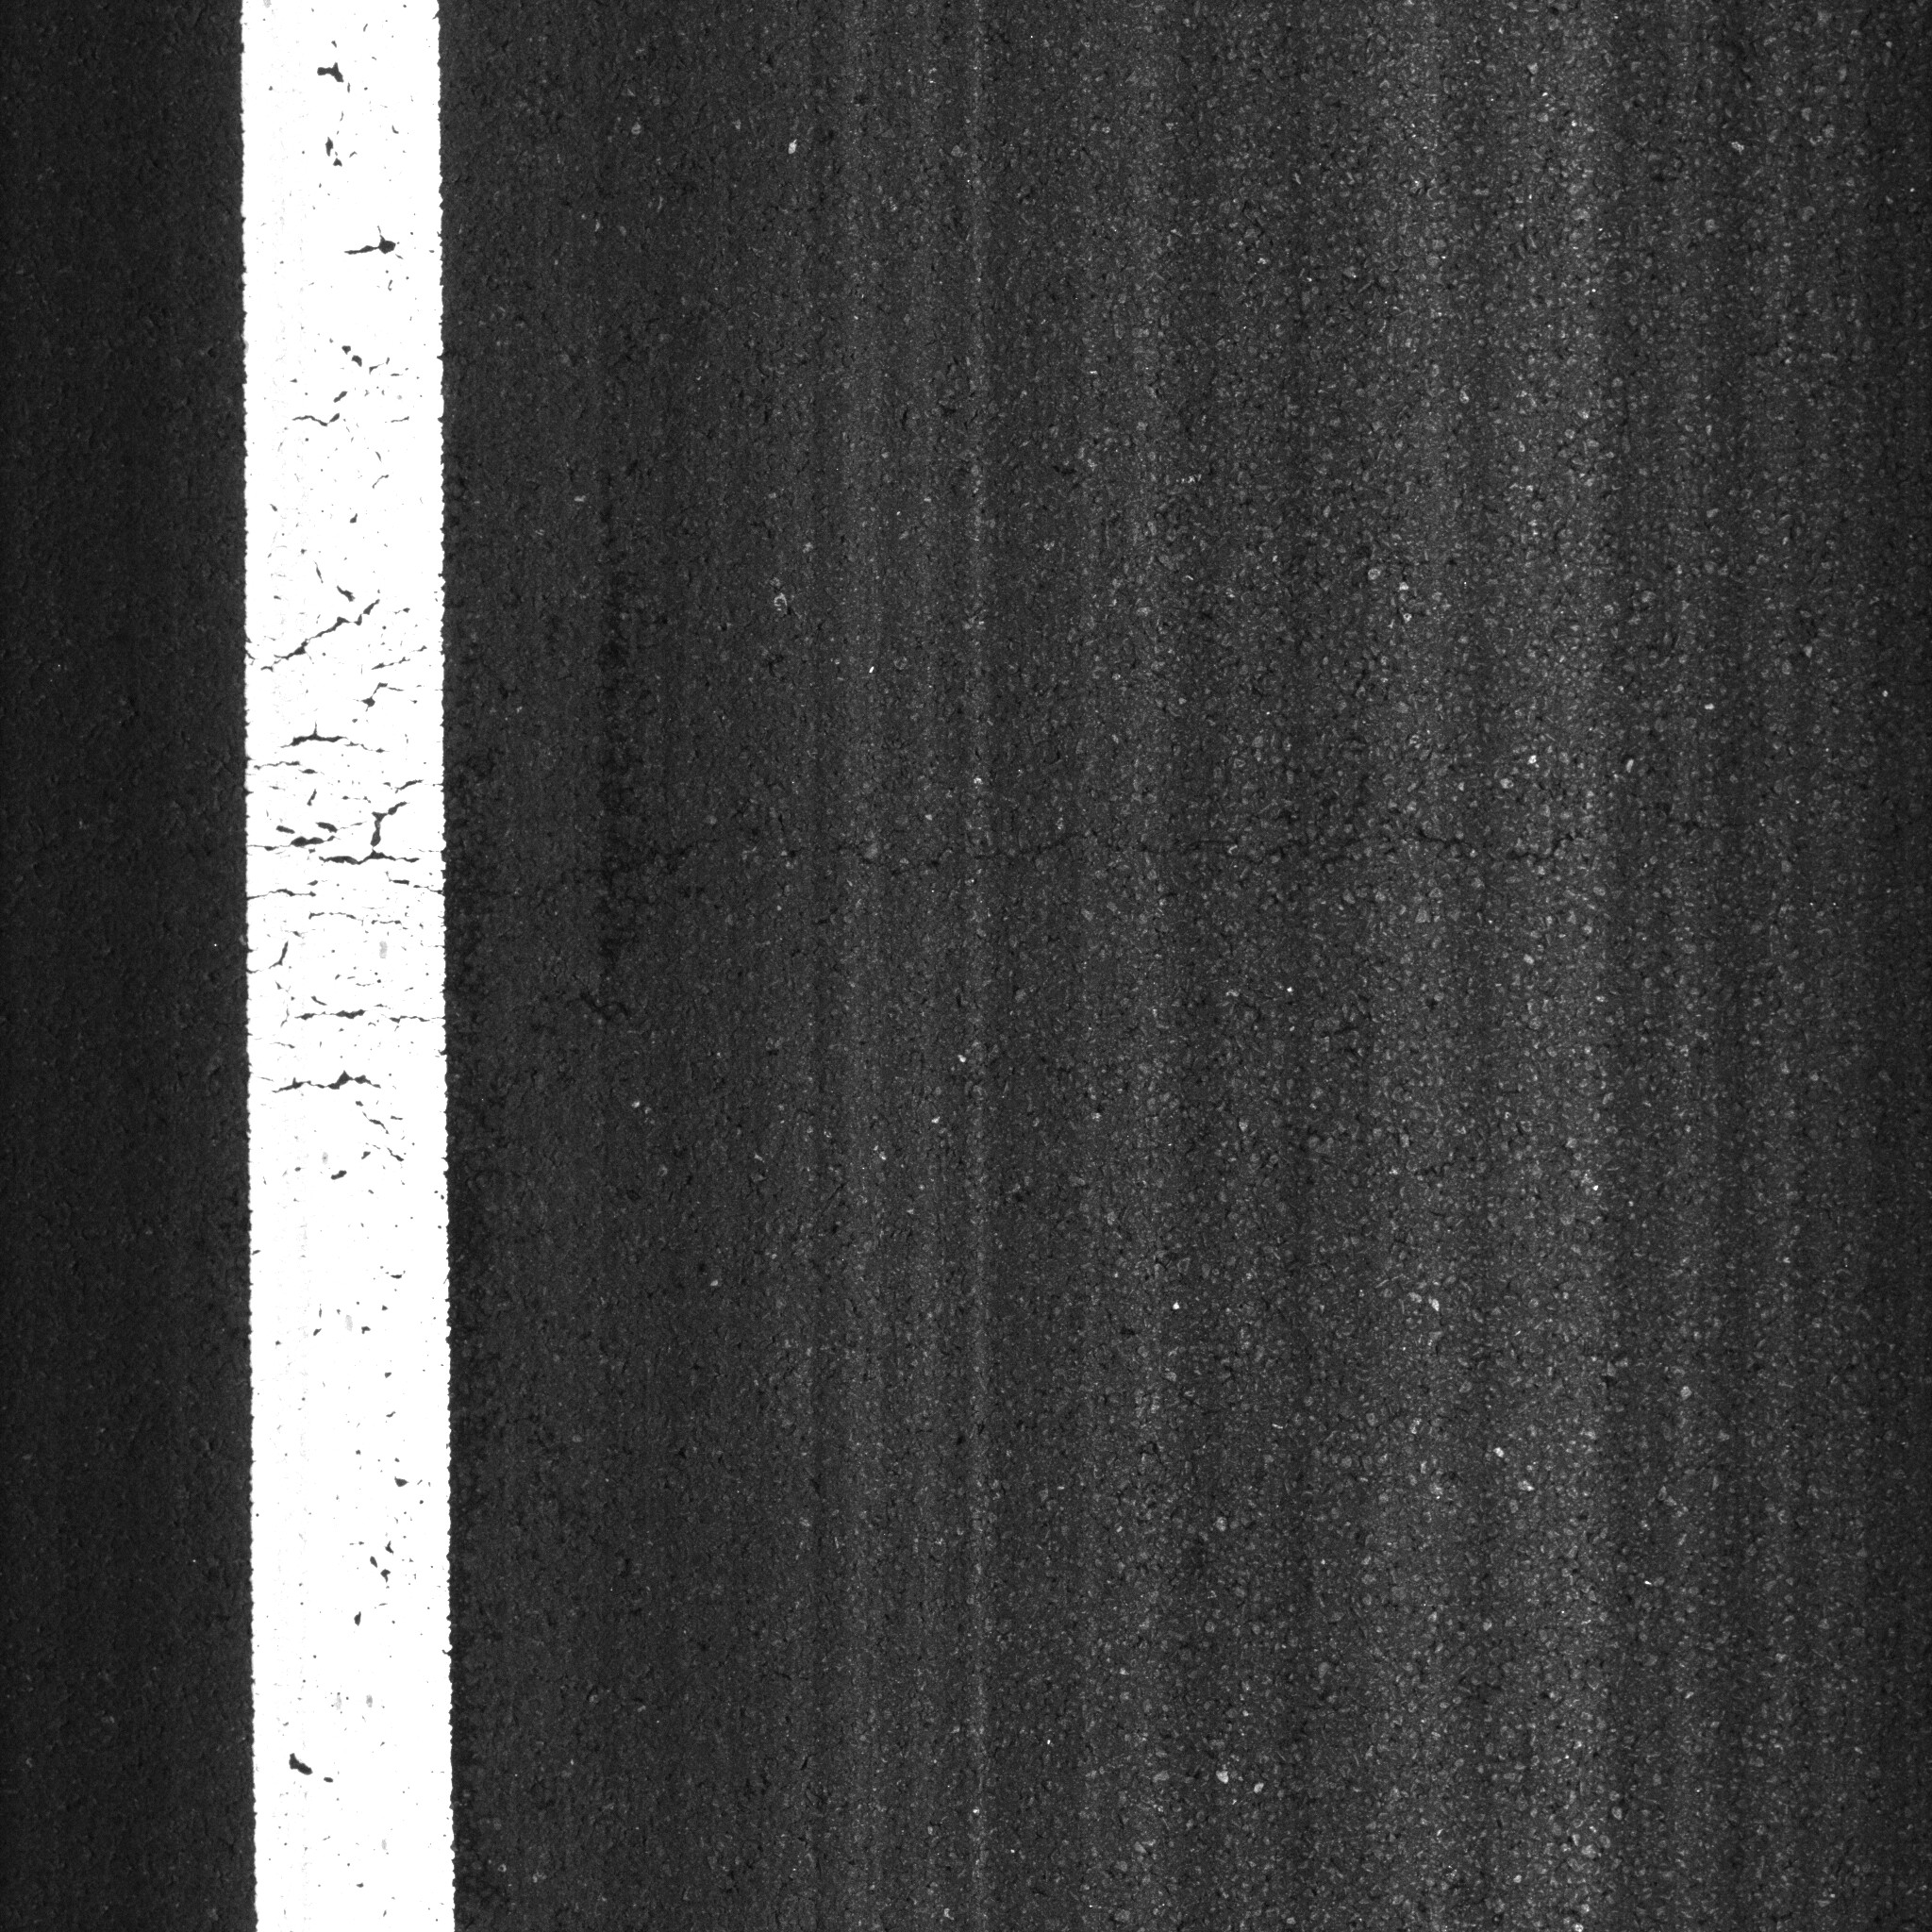transeverse: (460, 801, 1686, 911)
